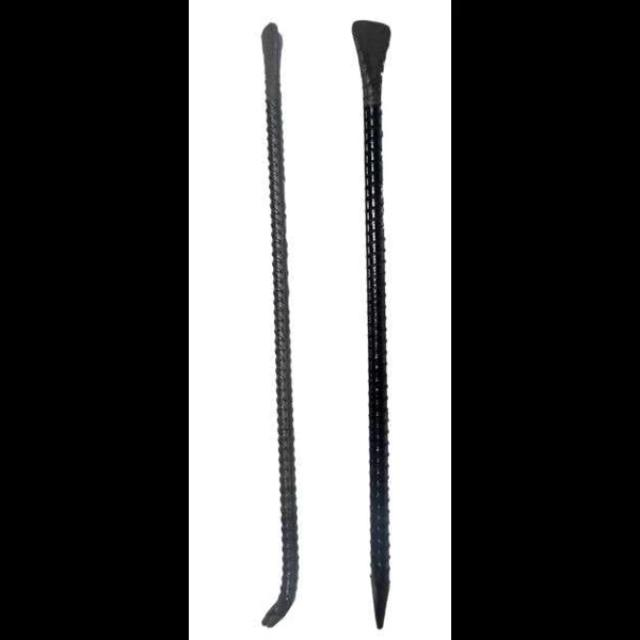crow bar: (240, 10, 326, 640), (342, 1, 420, 640)
